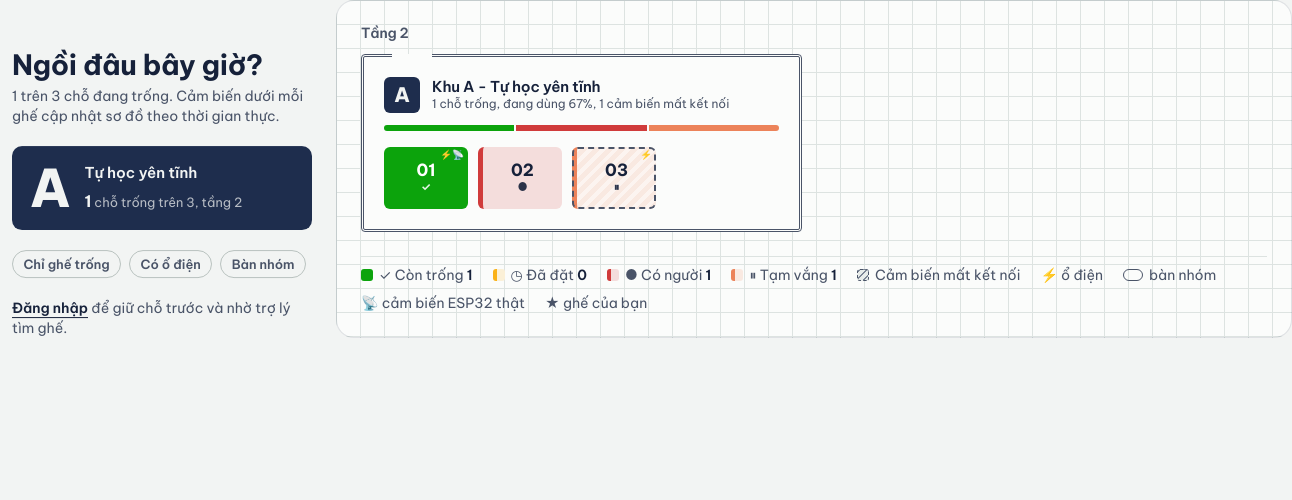
MapPage › renders the live map for an anonymous visitor
Expected: the heading "Khu A - Tự học yên tĩnh" is shown, [432,77,600,96]
Expected: the text "1 trên 3 chỗ đang trống" is shown, [12,86,312,126]
Click the button named "Ghế A-01".
click(426, 178)  # box [384,147,468,209]
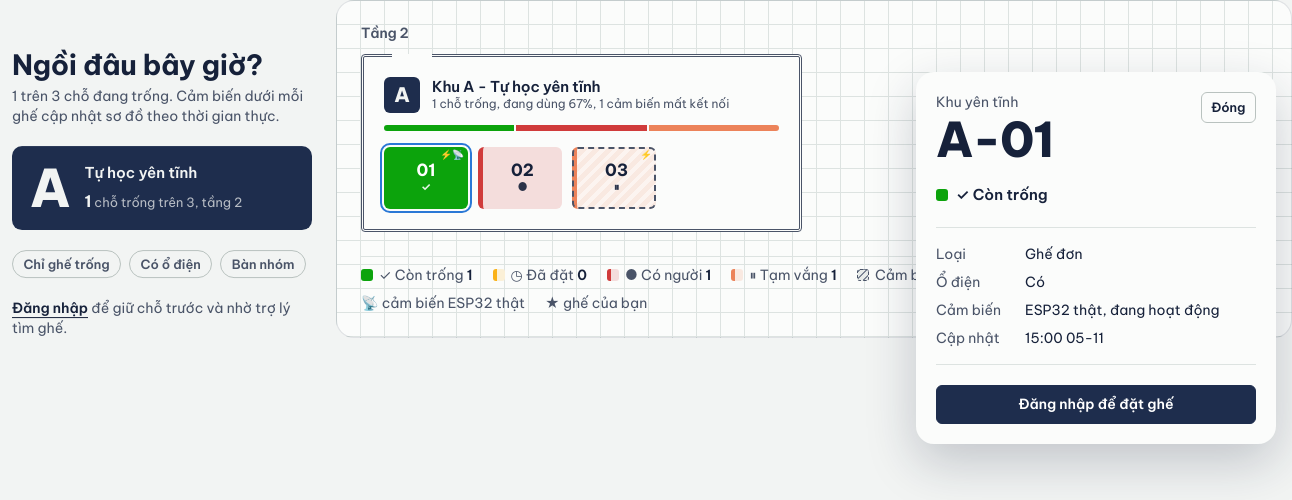
Expected: the text "ESP32 thật, đang hoạt động" is shown, [1025,300,1220,318]
Expected: the link "Đăng nhập để đặt ghế" is shown, [936,384,1256,424]
